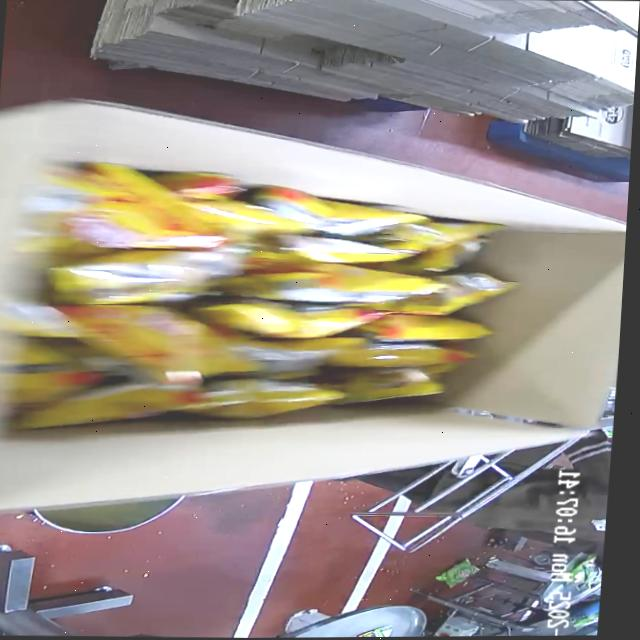SALTED: (0, 144, 506, 441)
